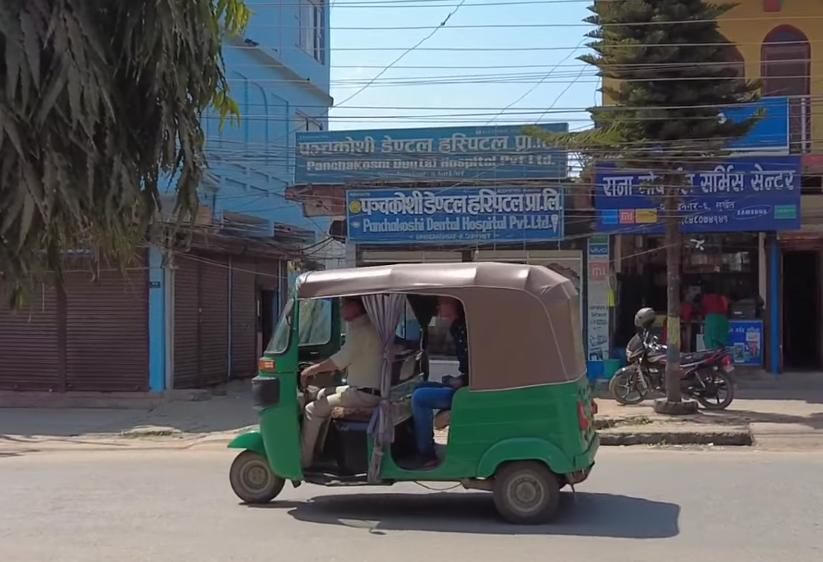auto_rickshaw: (225, 259, 604, 524)
